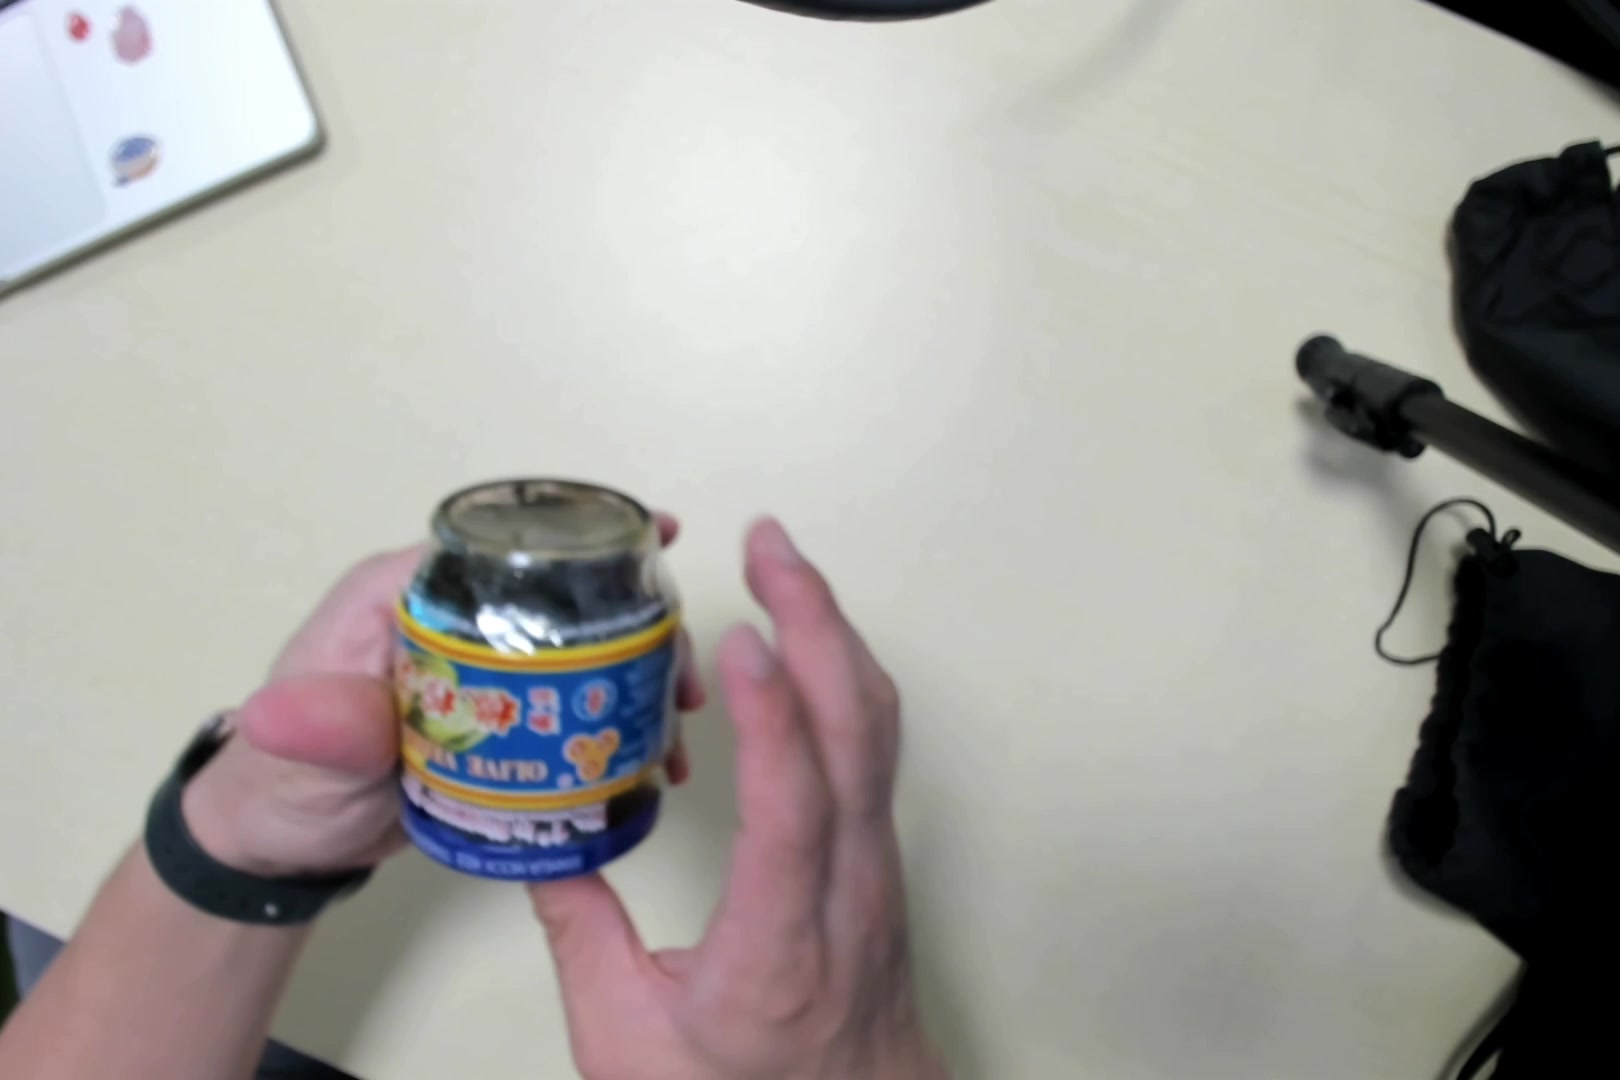CannedPickles_100-199g_NonHalal_NonHealthy: (383, 479, 681, 877)
